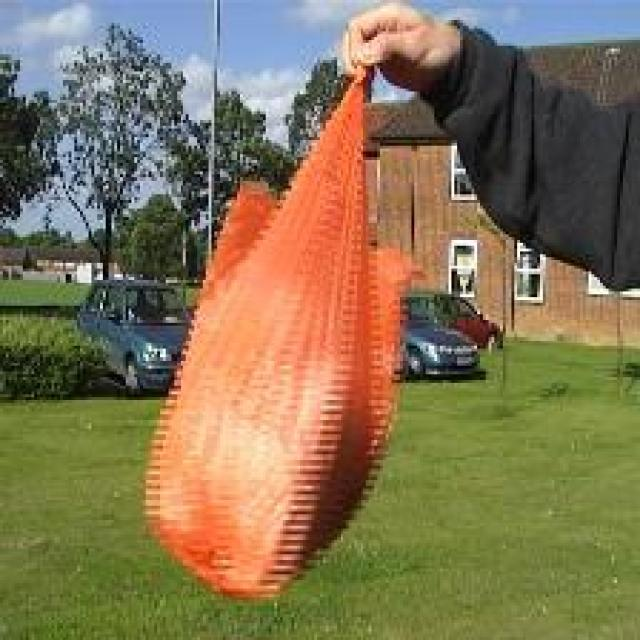other: (146, 56, 390, 605)
